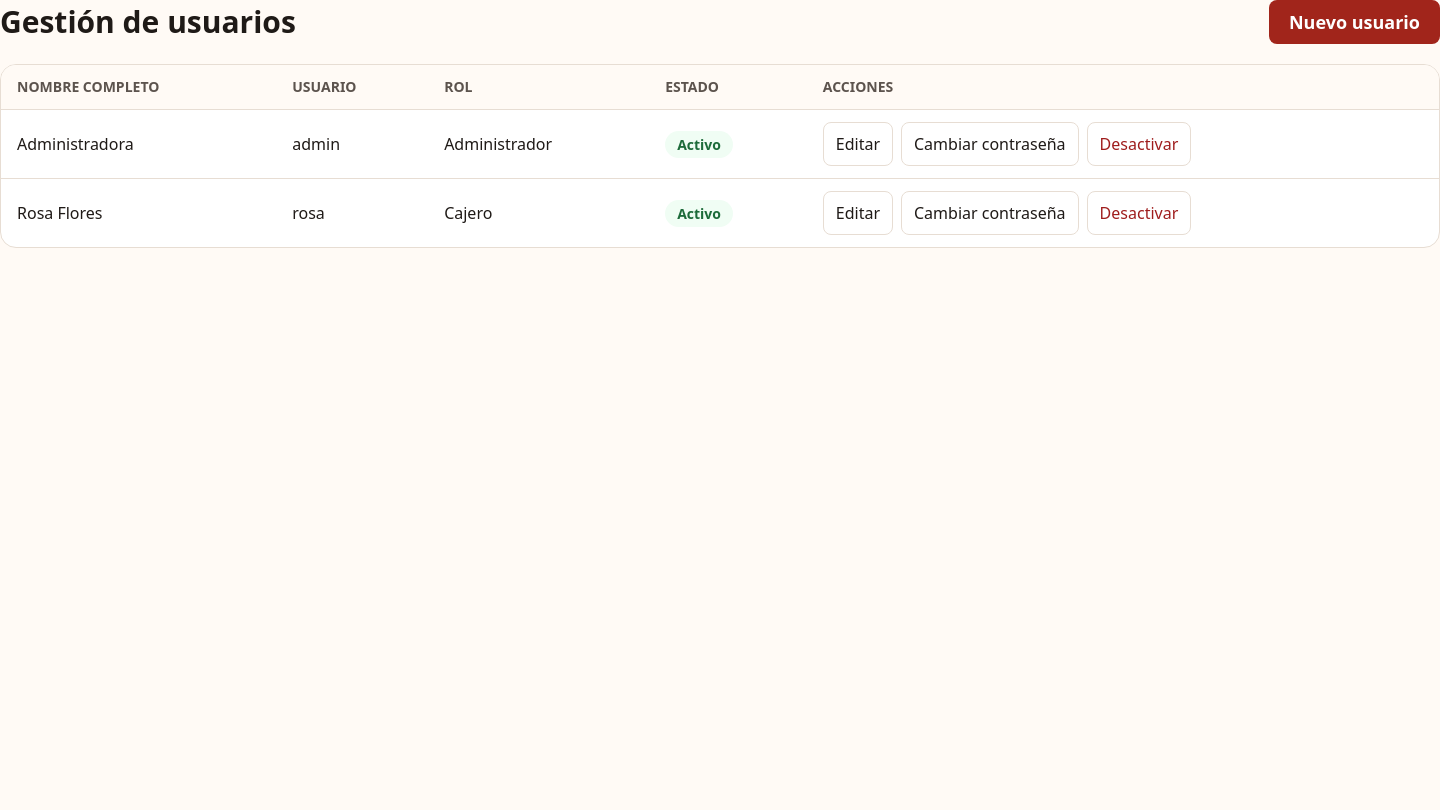
Test: UsersPage › cancelar la confirmación no desactiva al usuario
Step 1. Click the button "Desactivar" in the row of "Rosa Flores" → (1139, 213), box [1087,191,1191,235]
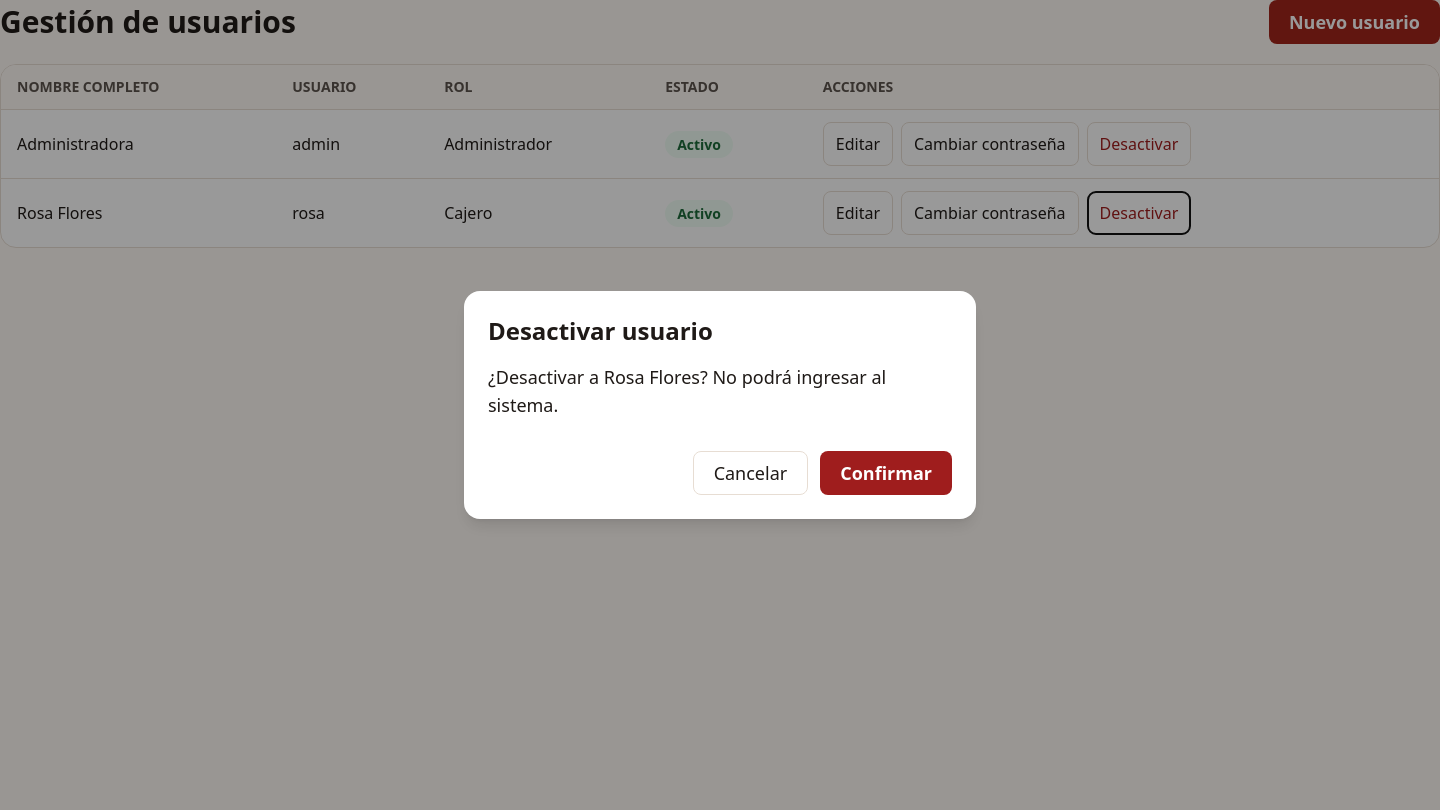
Step 2. Click the button "Cancelar" → (750, 473), box [693,451,808,495]
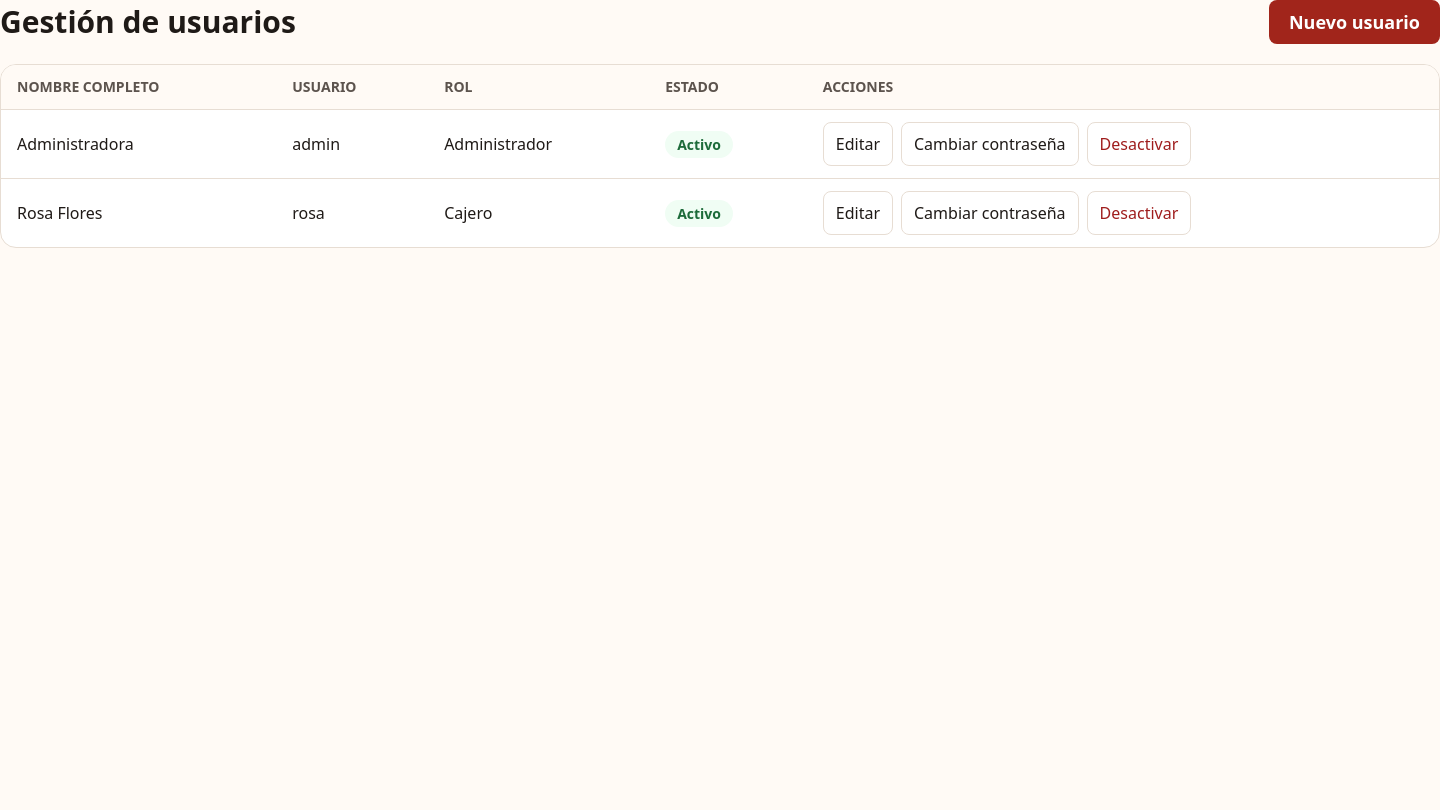
Expected: the dialog is gone
